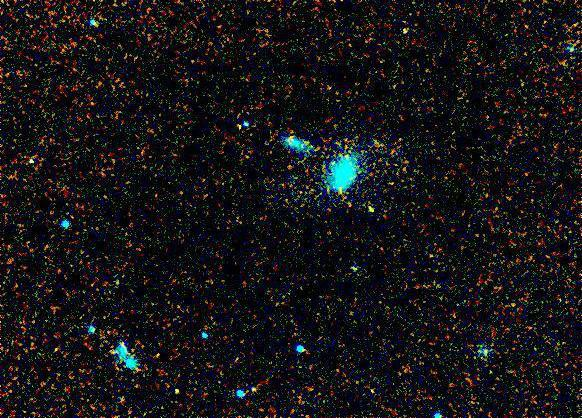star: (357, 198, 387, 228)
